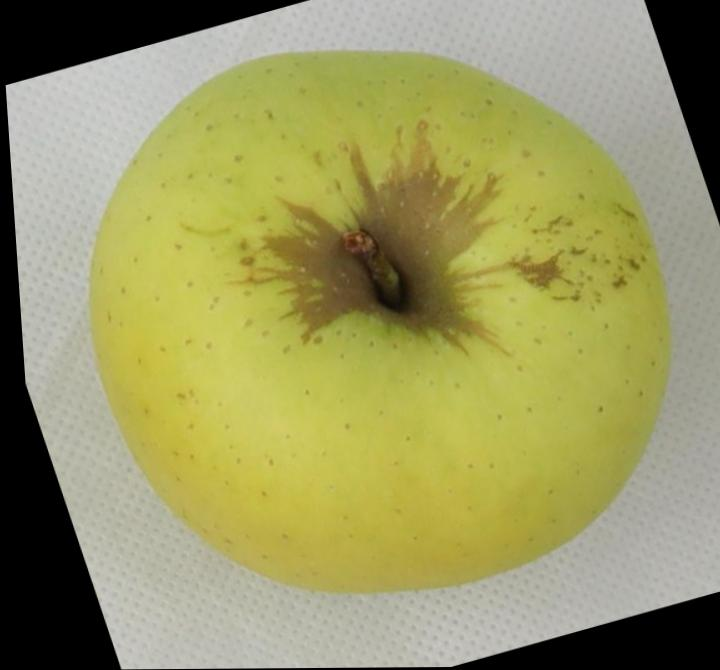apple: (90, 51, 670, 591)
bruise_discoloration: (242, 120, 571, 354)
